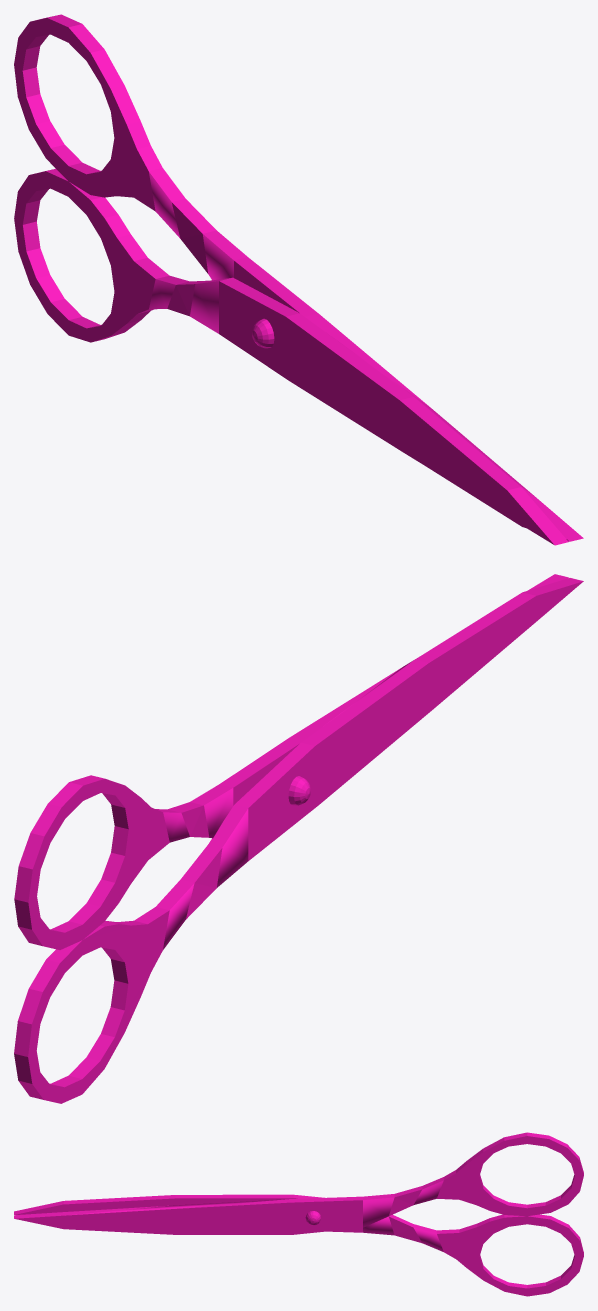
File: scissors1_5.dae
3 views of the same model, one above another, from view 1: azimuth 30°, elevation 25°; view 2: azimuth 150°, elevation 25°; view 3: azimuth 270°, elevation 25° (orthographic). The views are drawn at different scales.
Visible parts, largest first — view 1: M003320_019; view 2: M003320_019; view 3: M003320_019.
Part boxes in pixels (x1,y1,x2,y2): M003320_019: (14, 14, 583, 545); M003320_019: (14, 574, 583, 1103); M003320_019: (14, 1132, 583, 1296).
Bounding box in the file's own units: 0.0156 × 0.2706 × 0.084.
